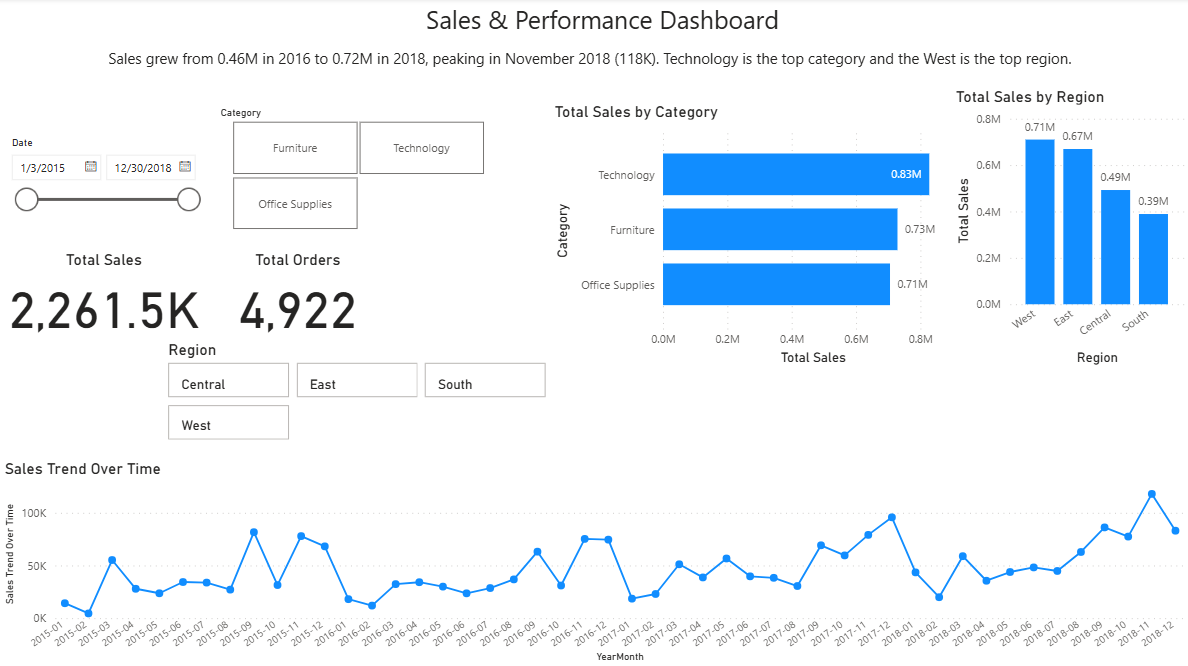

What the dashboard file says about the page in this screenshot:
{"tool":"powerbi","page":{"name":"Page 1","canvas":[1280,720],"ordinal":0},"visuals":[{"type":"textbox","box":[16,0,1264,48],"z":0},{"type":"slicer","fields":{"Values":["DateTable.Date"]},"box":[0,144,224,112],"z":1000},{"type":"advancedSlicerVisual","fields":{"Values":["train.Region"]},"box":[176,368,416,112],"z":2000},{"type":"card","title":"Total Orders","fields":{"Values":["DateTable.Total Orders Text"]},"box":[224,272,192,96],"z":3000},{"type":"lineChart","title":"Sales Trend Over Time","fields":{"Y":["DateTable.Total Sales"],"Category":["DateTable.YearMonth"]},"box":[0,496,1280,224],"z":4000},{"type":"clusteredBarChart","fields":{"Category":["train.Category"],"Y":["DateTable.Total Sales"]},"box":[592,112,464,288],"z":5000},{"type":"clusteredColumnChart","fields":{"Category":["train.Region"],"Y":["DateTable.Total Sales"]},"box":[1024,96,256,304],"z":6000},{"type":"slicer","fields":{"Values":["train.Category"]},"box":[224,112,320,144],"z":7000},{"type":"card","title":"Total Sales","fields":{"Values":["DateTable.Total Sales Text"]},"box":[0,272,224,96],"z":8000},{"type":"textbox","box":[112,48,1072,32],"z":9000}]}

Visuals, with their boxes in screenshot pixels (x1, y1, x2, y2), scaled from the page's 1280x720 canvas onto the 1188x666 screenshot:
textbox: (15, 0, 1187, 44)
slicer - DateTable.Date: (0, 133, 208, 237)
advancedSlicerVisual - train.Region: (163, 340, 549, 444)
"Total Orders" card: (208, 252, 386, 340)
"Sales Trend Over Time" lineChart: (0, 459, 1187, 665)
clusteredBarChart - train.Category x DateTable.Total Sales: (549, 104, 980, 370)
clusteredColumnChart - train.Region x DateTable.Total Sales: (950, 89, 1187, 370)
slicer - train.Category: (208, 104, 505, 237)
"Total Sales" card: (0, 252, 208, 340)
textbox: (104, 44, 1099, 74)
